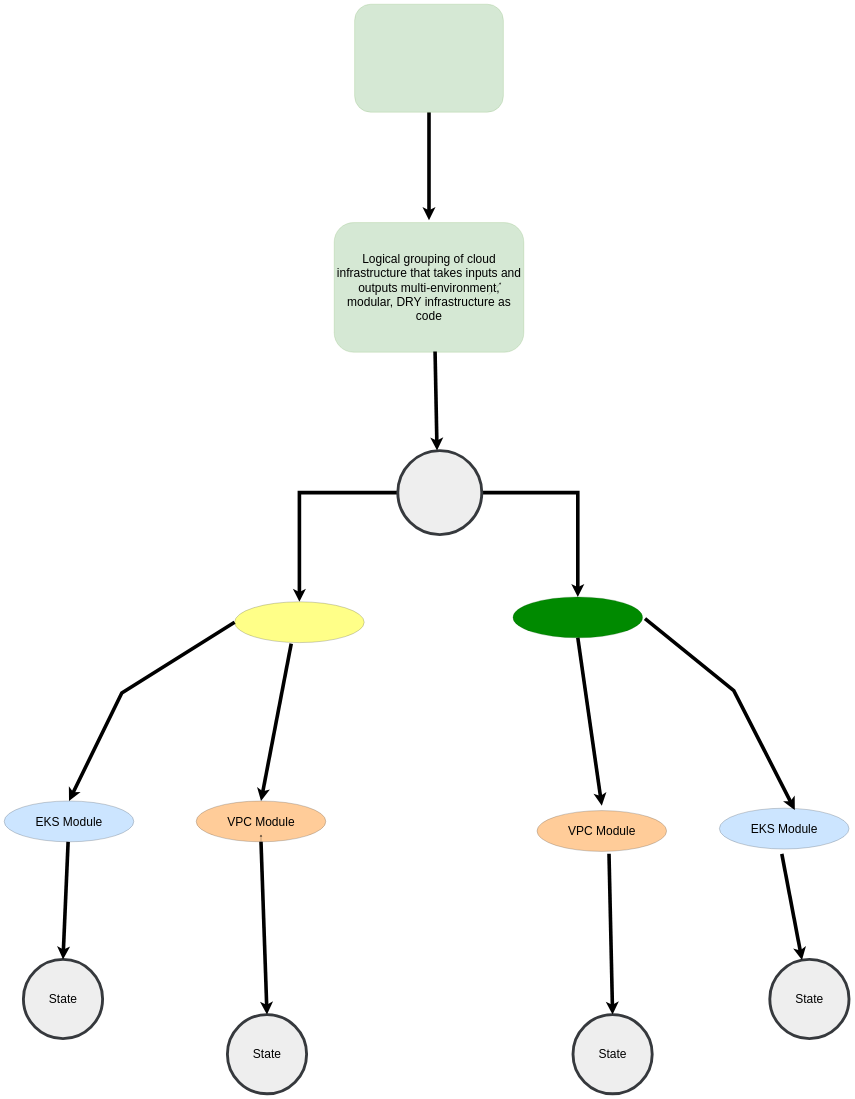
The diagram is 855 pixels wide and 1099 high, and some of its shapes have lost their labels. Each missing label, with the box of its shape:
Environments: (396, 449, 483, 536)
Non-Prod: (234, 602, 364, 643)
One configuration: (354, 4, 503, 112)
Prod: (513, 597, 643, 638)
